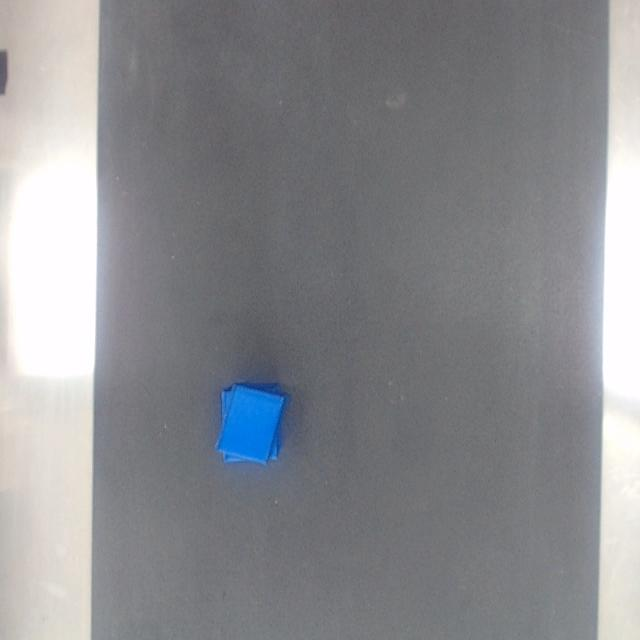Azul: (216, 384, 288, 465)
